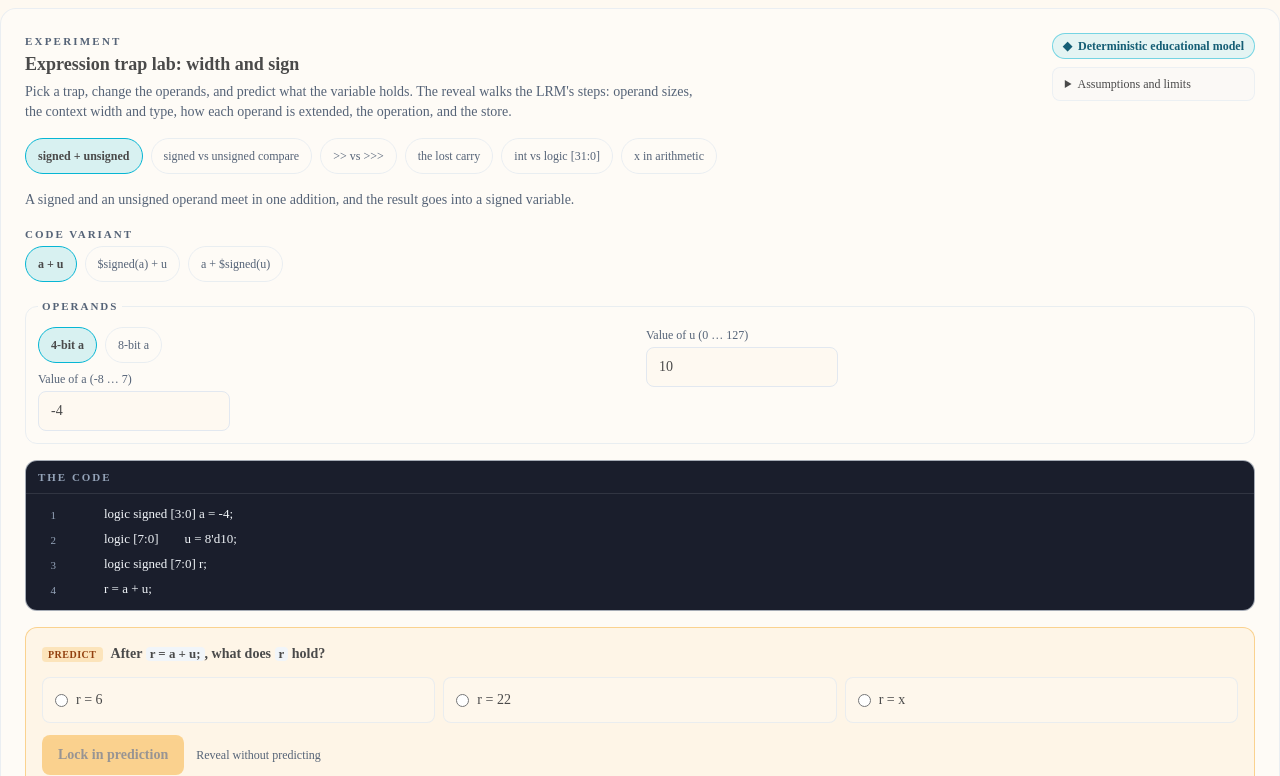
Test case: SignednessVisualizer (expression trap lab) › the fix variant sign-extends a and matches the author's intent
This screenshot has width=1280, height=776.
Step 1. Click the radio button labelled "a + $signed(u)" → (236, 264), box [188,246,283,282]
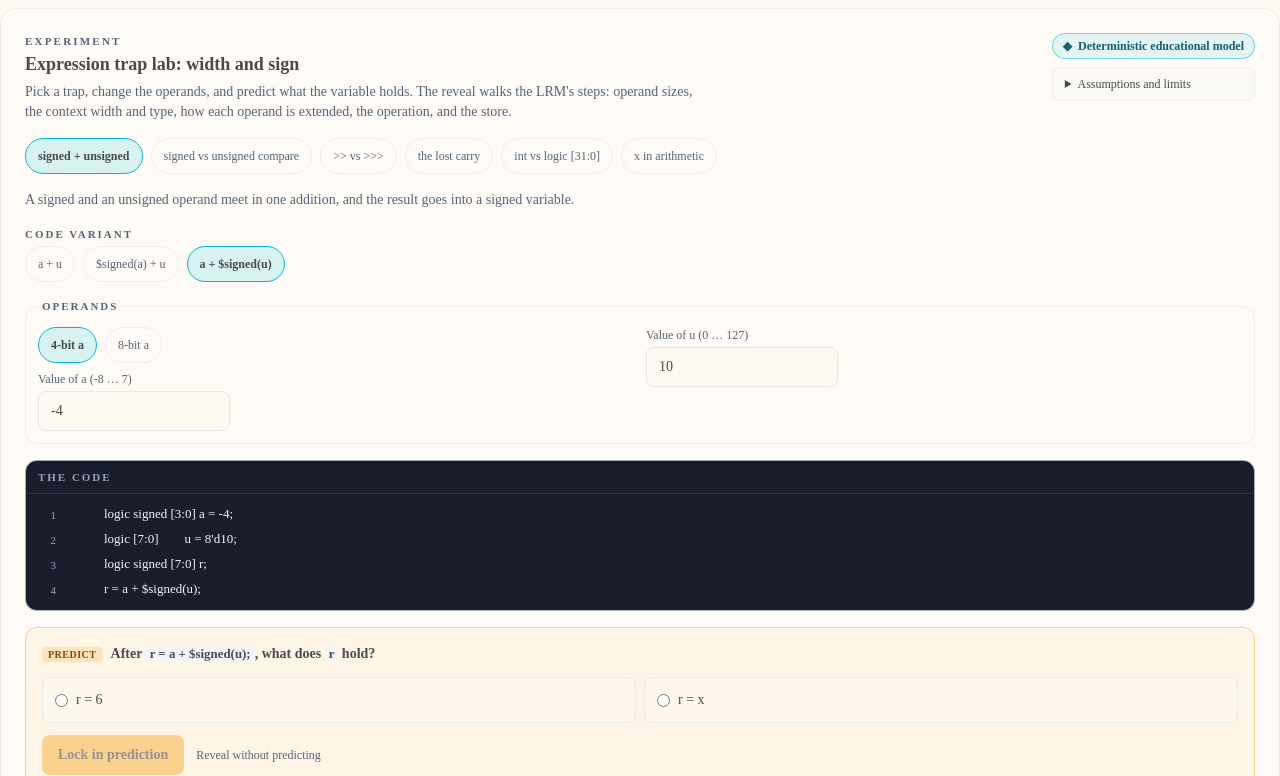
Expected: the text "r = a + $signed(u);" below "logic signed [7:0] r;" is shown, [104,581,201,596]
Step 2. Click the radio button labelled "r = 6" → (62, 700), box [55,694,68,707]
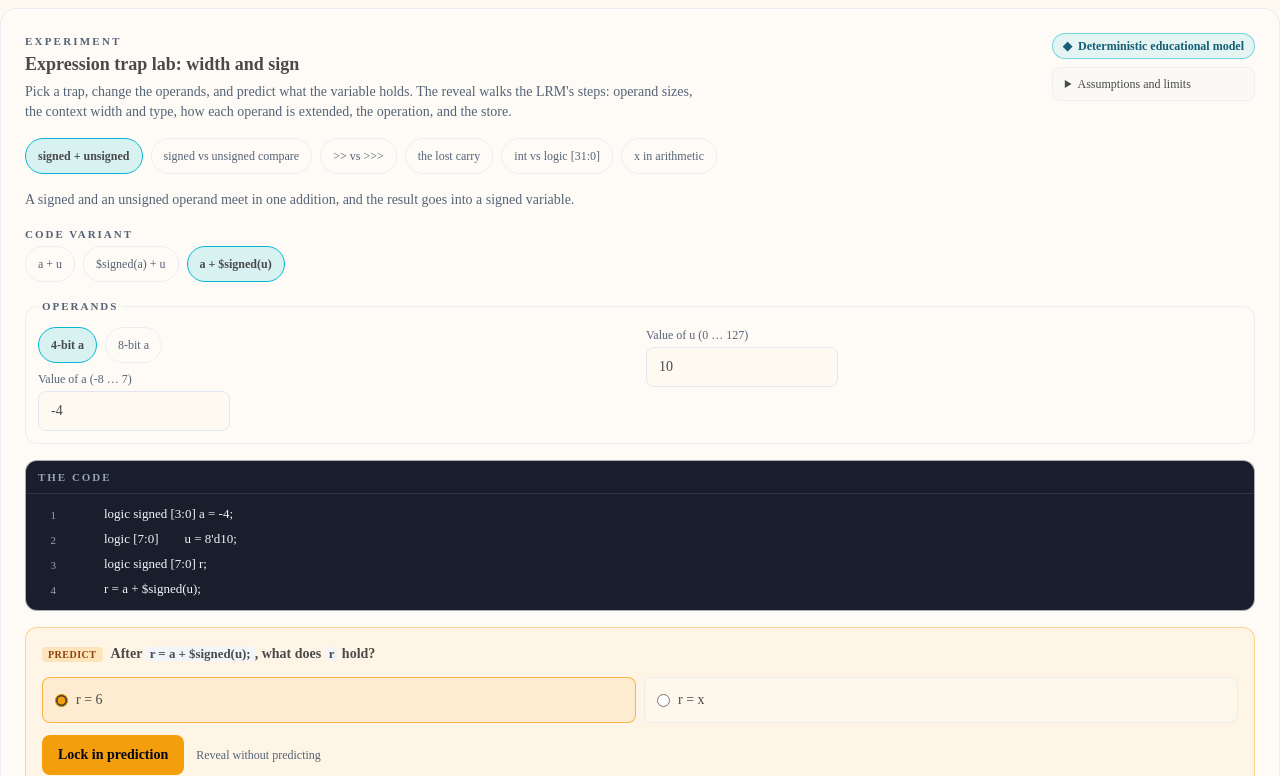
Step 3. Click the button "Lock in prediction" → (113, 755), box [42,735,184,775]
(page scrolled)
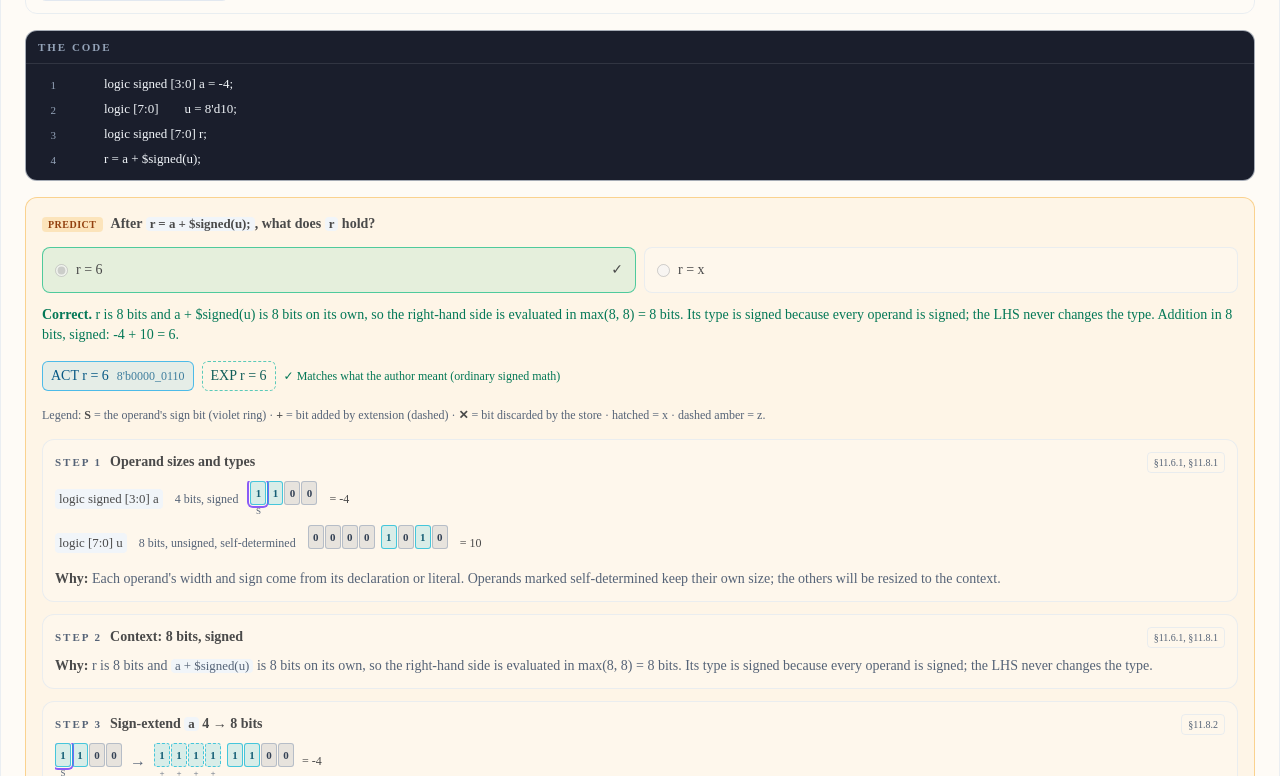
Expected: the text "Correct." is shown, [42,307,95,322]
Expected: the text "Sign-extend a 4 → 8 bits" is shown, [110,714,262,734]
Expected: the text "✓ Matches what the author meant (ordinary signed math)" is shown, [284,368,560,384]
